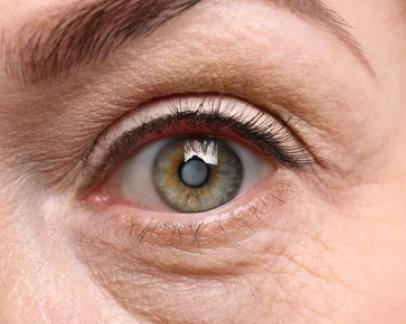eye: (154, 136, 243, 213)
